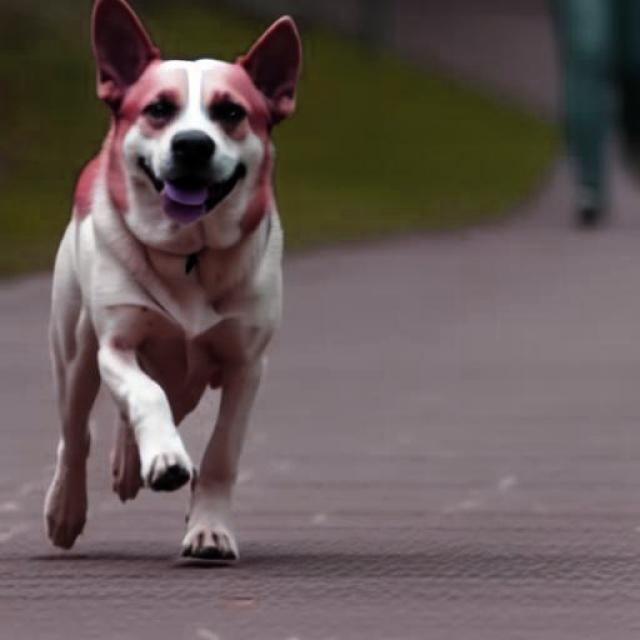Dog: (43, 0, 303, 562)
